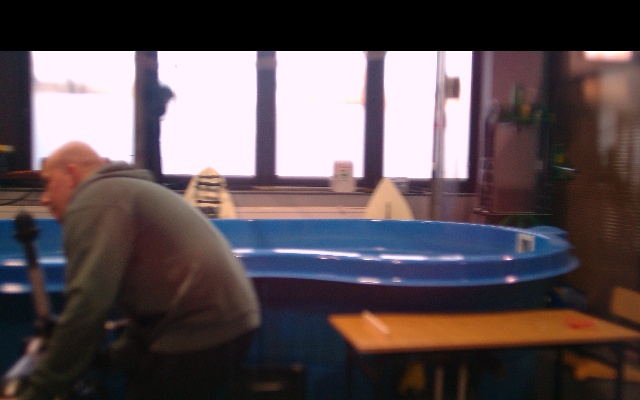black: (26, 259, 51, 322)
